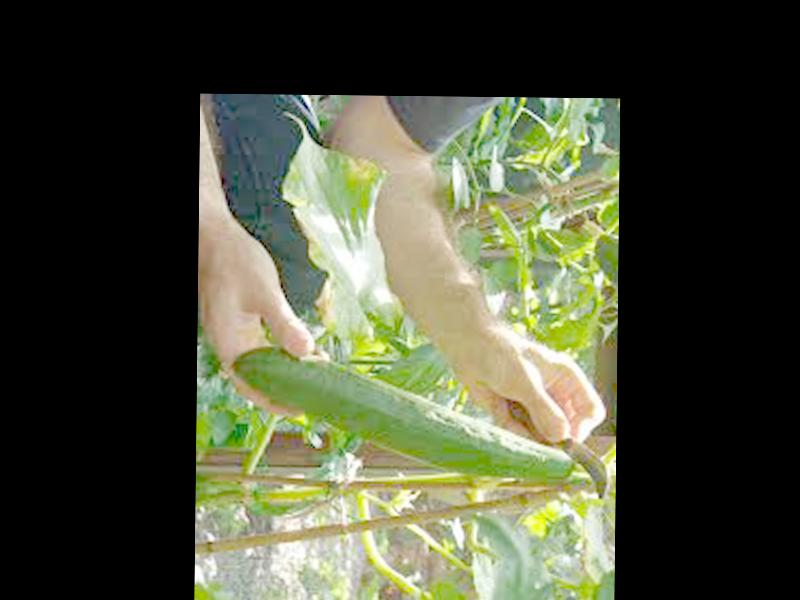Cucumber: (232, 347, 573, 483)
